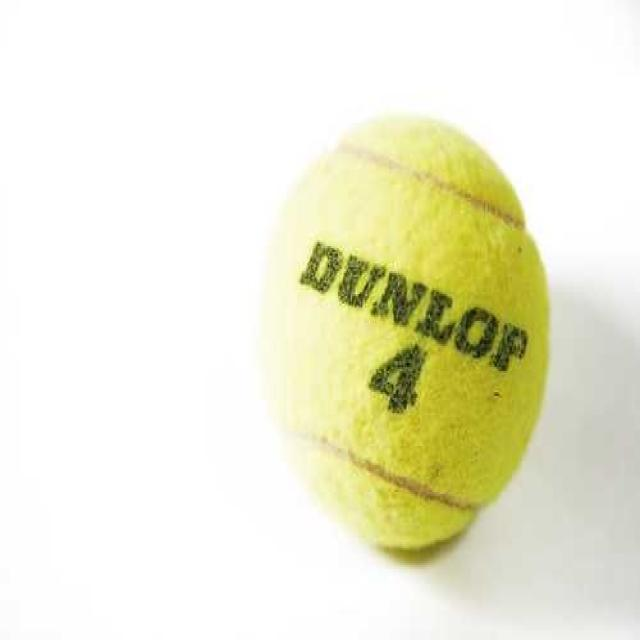Tennis_Ball: (292, 123, 554, 566)
